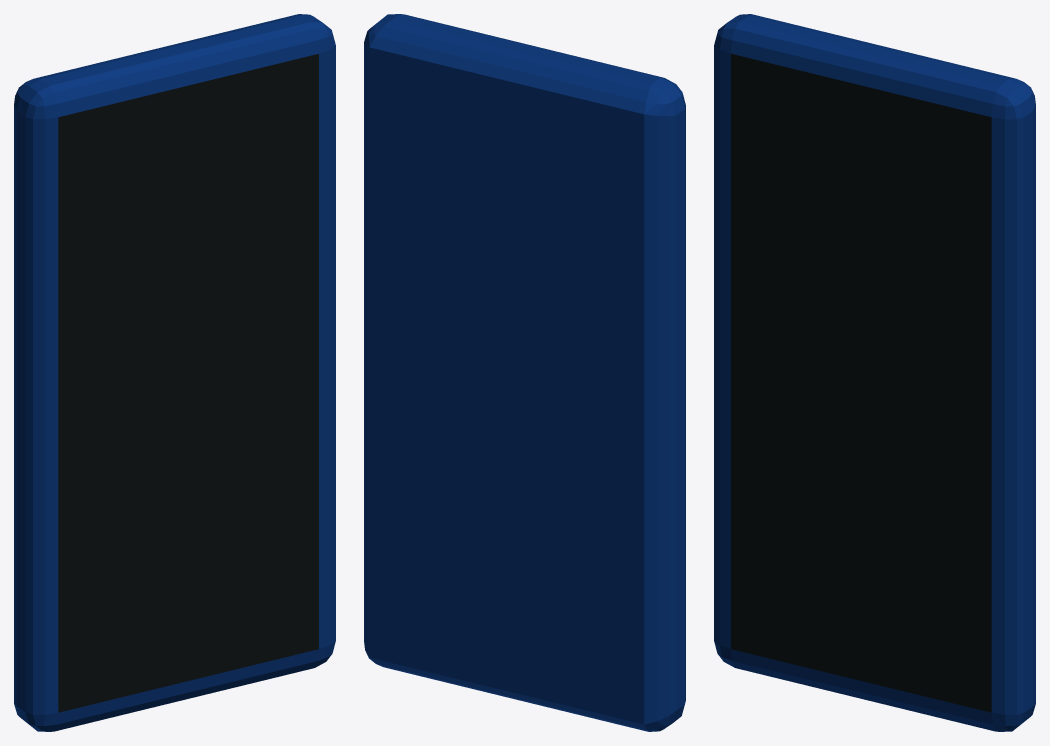
Rendered from SM_TD2_Display_Portrait.fbx.
3 renders of one model, left to right at view 1: azimuth 30°, elevation 25°; view 2: azimuth 150°, elevation 25°; view 3: azimuth 330°, elevation 25°, orthographic.
Visible parts, largest first — view 1: SM_TD2_Display_Portrait__Screen, SM_TD2_Display_Portrait__Body; view 2: SM_TD2_Display_Portrait__Body; view 3: SM_TD2_Display_Portrait__Screen, SM_TD2_Display_Portrait__Body.
Part boxes in pixels (x1,y1,x2,y2): SM_TD2_Display_Portrait__Screen: (58,54,318,712); SM_TD2_Display_Portrait__Body: (14,14,335,731); SM_TD2_Display_Portrait__Body: (364,14,685,731); SM_TD2_Display_Portrait__Screen: (731,54,991,712); SM_TD2_Display_Portrait__Body: (714,14,1035,731).
Size of the model in its own units: 2 by 4 by 0.3567.
Materials: 2 (1 with a texture image).
